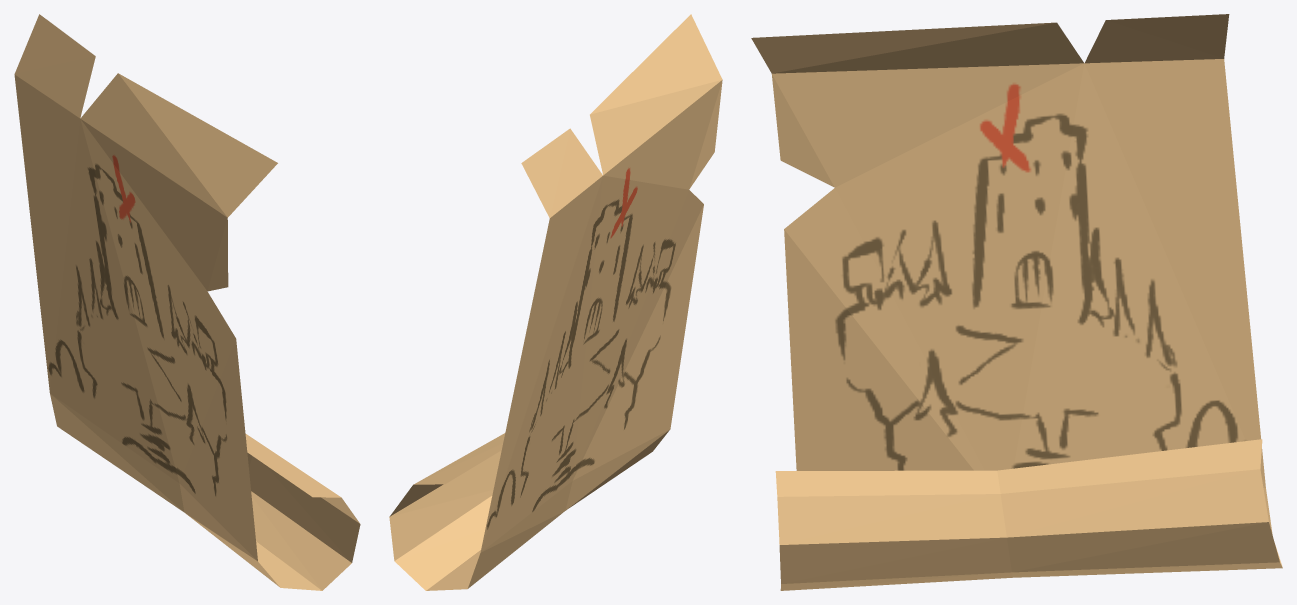
File: Desk29_Baked.glb
The picture shows the model from 3 angles, left to right: view 1: azimuth 30°, elevation 25°; view 2: azimuth 150°, elevation 25°; view 3: azimuth 270°, elevation 25°; orthographic projection. The views are drawn at different scales.
Parts seen in each view (by area): view 1: mff_prop_map; view 2: mff_prop_map; view 3: mff_prop_map.
Boxes of the visible parts, box(x1,y1,x2,y2) form: mff_prop_map: box(14, 14, 360, 590); mff_prop_map: box(389, 14, 722, 590); mff_prop_map: box(751, 14, 1282, 590).
Size of the model in its own units: 0.4664 by 1.33 by 1.21.
Materials: 1 (1 with a texture image).
